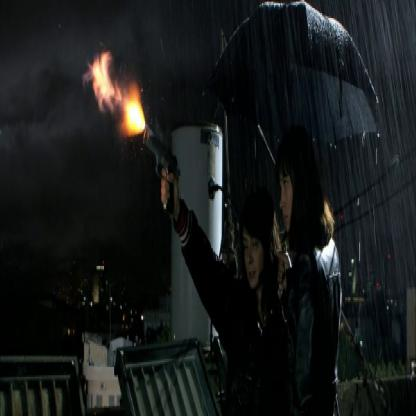Gun: (140, 114, 179, 220)
